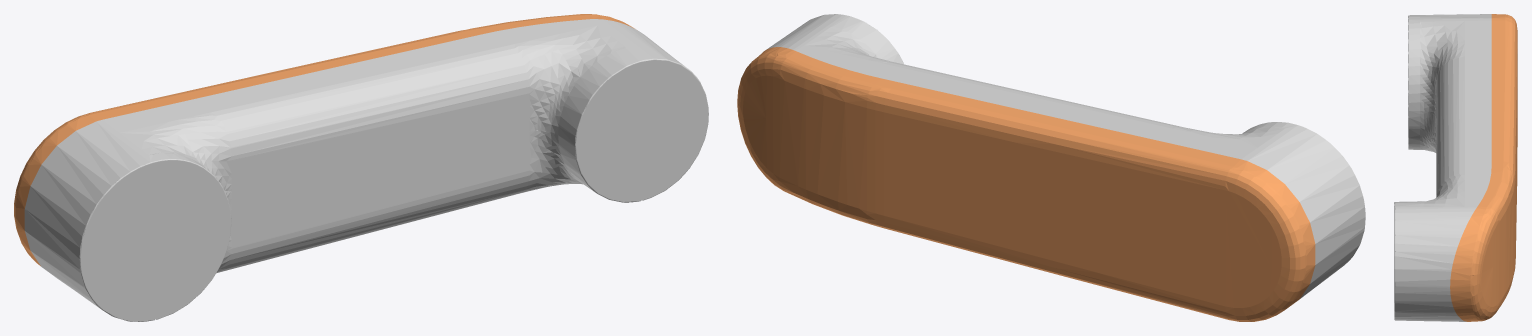
3 renders of one model, left to right at view 1: azimuth 30°, elevation 25°; view 2: azimuth 150°, elevation 25°; view 3: azimuth 270°, elevation 25°, orthographic. The views are drawn at different scales.
Parts seen in each view (by area): view 1: Link; view 2: Link; view 3: Link.
Part boxes in pixels (<box>): Link: <box>14,14,708,321</box>; Link: <box>737,14,1365,321</box>; Link: <box>1394,14,1517,321</box>.
Size of the model in its own units: 0.339 by 0.0845 by 0.0757.
